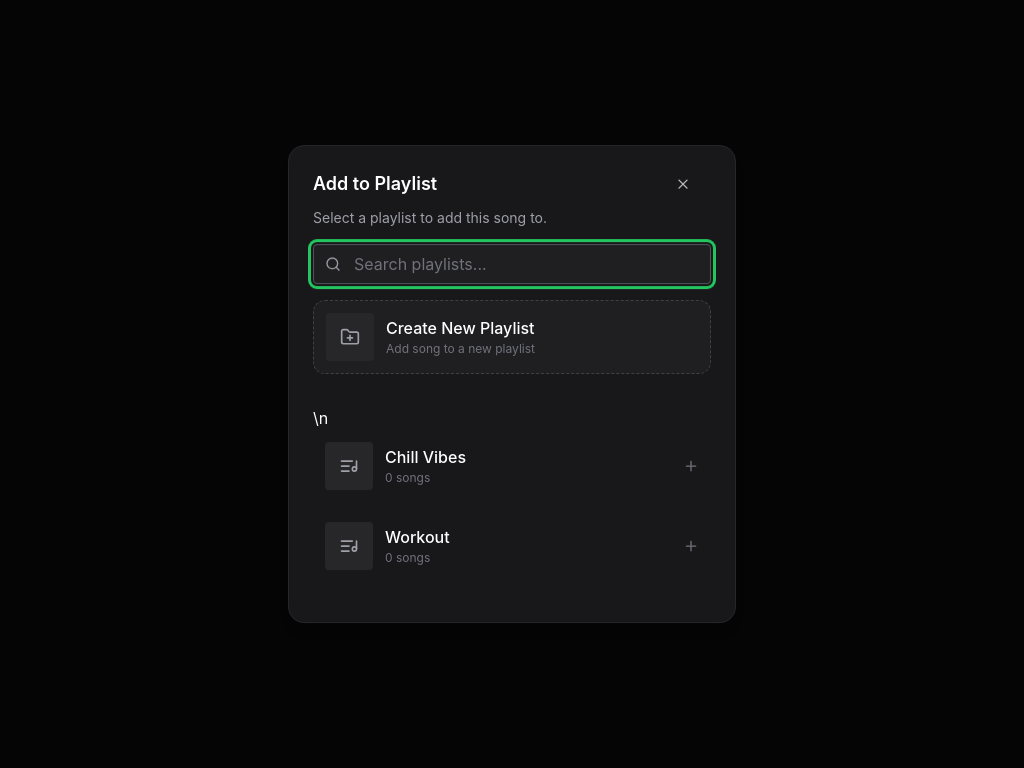
Test: AddToPlaylistDialog › filters playlists based on search
Check: the text "Chill Vibes" is shown, box x1=385 y1=447 x2=466 y2=467
Type "Work" into the field with placeholder "Search playlists..." at point(512, 264), box x1=313 y1=244 x2=711 y2=284
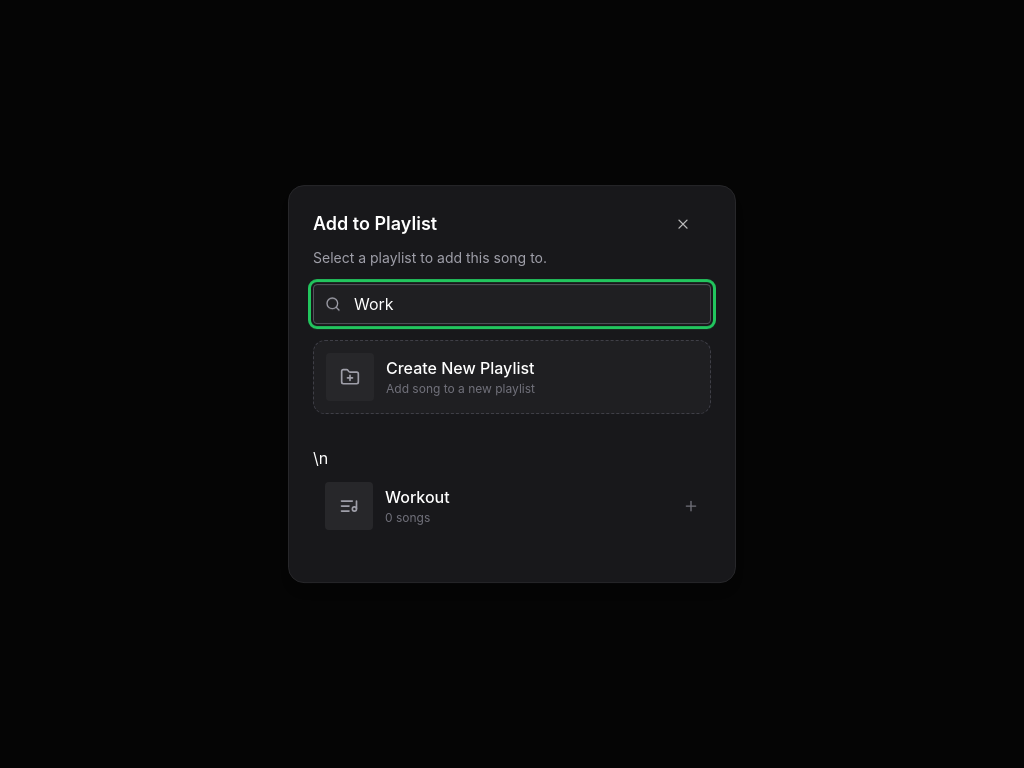
Check: the text "Workout" is shown, box x1=385 y1=487 x2=450 y2=507
Check: the button "Chill Vibes" is gone
